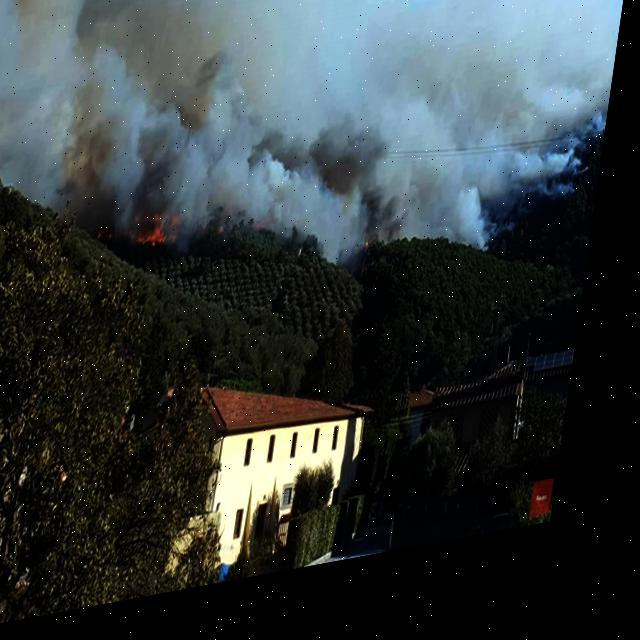Fire: (133, 210, 189, 260)
